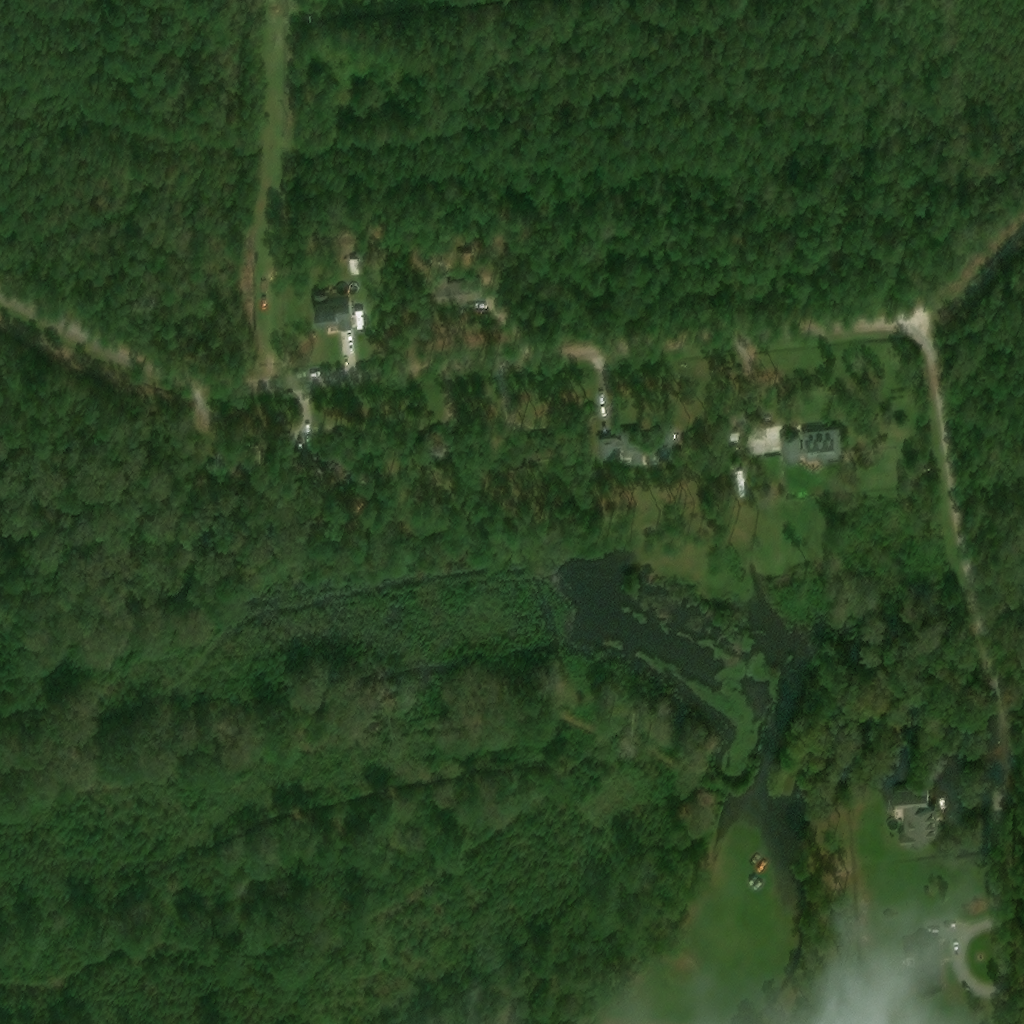minor_damage: (888, 786, 940, 849)
no_damage: (599, 428, 679, 467), (899, 939, 945, 996), (782, 428, 844, 463), (506, 437, 560, 470), (308, 295, 357, 329), (433, 278, 484, 308), (292, 442, 341, 471), (411, 432, 444, 461), (727, 421, 738, 428)
unclassified: (217, 450, 251, 473), (331, 266, 340, 273)
